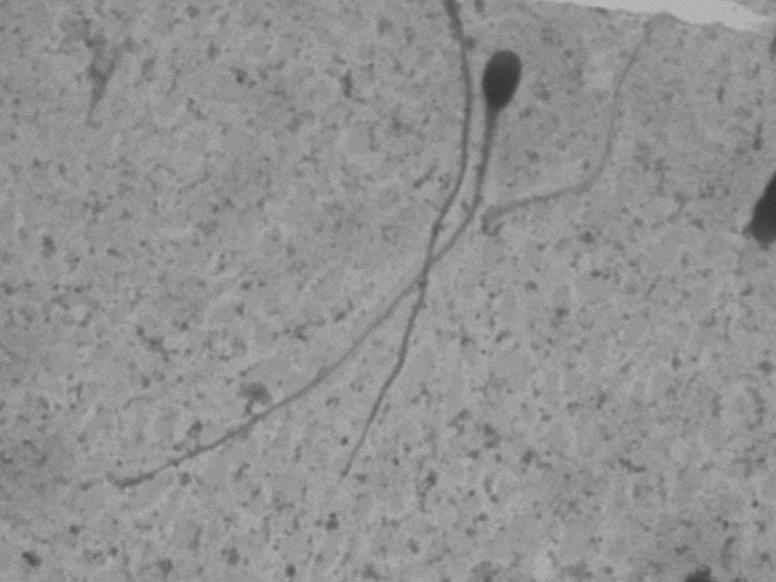Normal: (111, 33, 528, 497)
